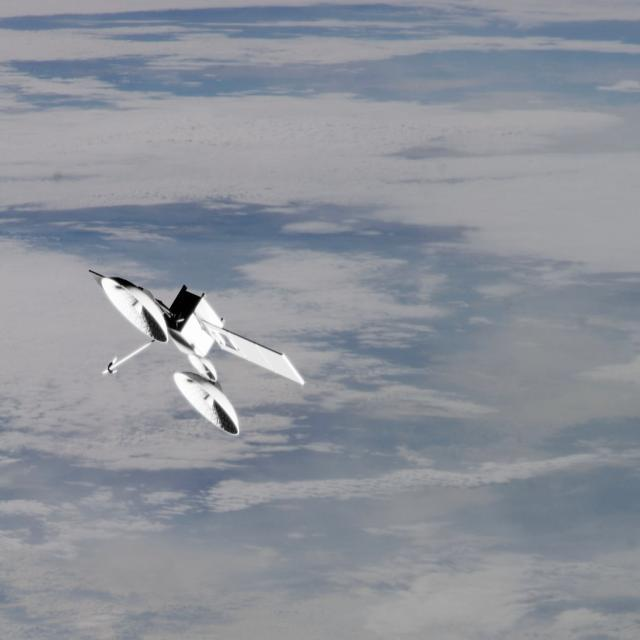satellite: (79, 263, 315, 442)
